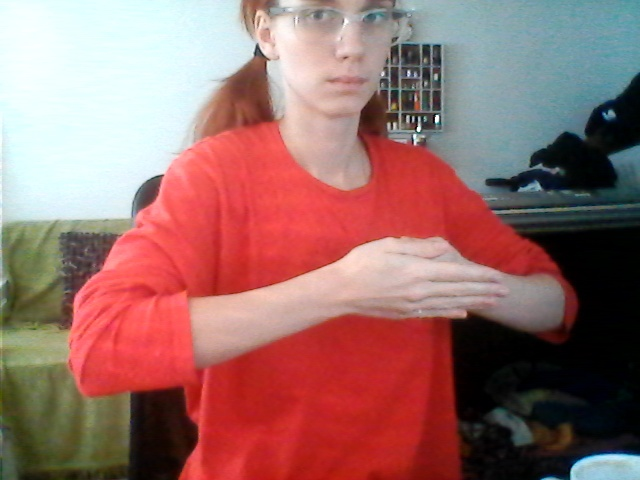dvere: (337, 227, 512, 335)
